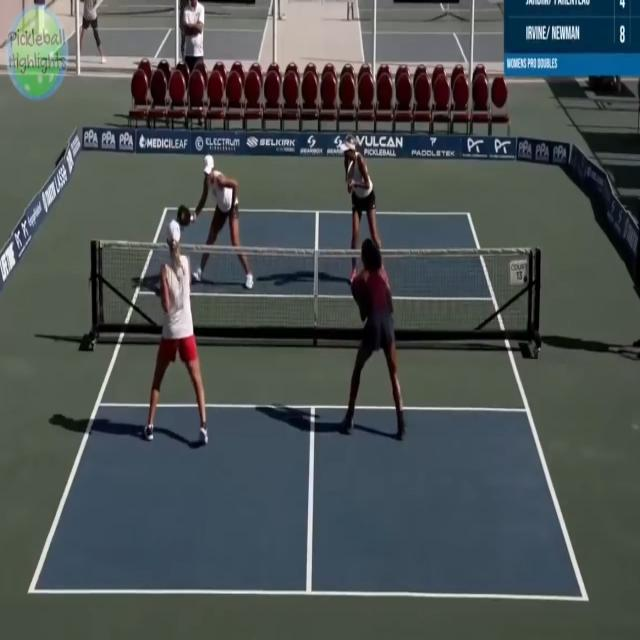Court: (33, 210, 585, 603)
